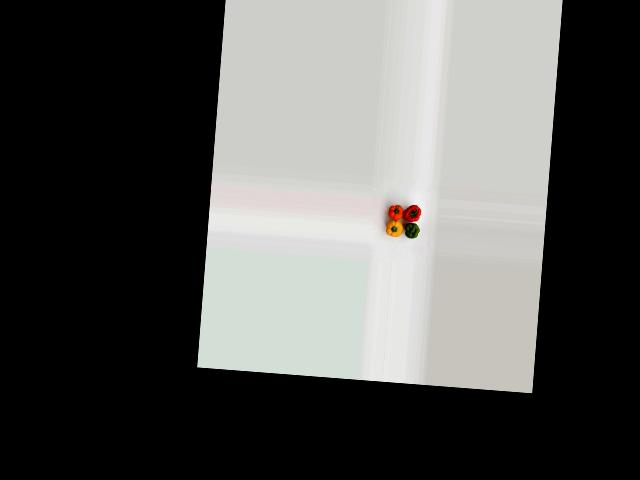bell_pepper: (401, 218, 421, 243)
